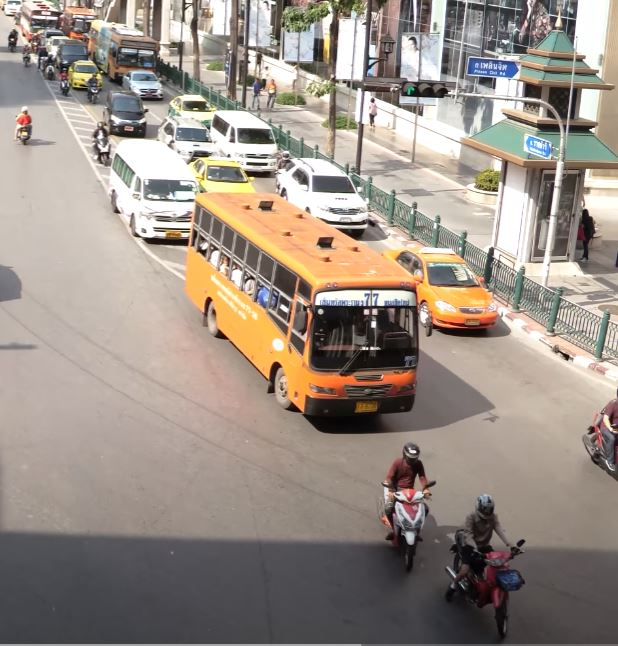Bus: (183, 192, 421, 423), (107, 139, 201, 244), (210, 109, 279, 174), (87, 20, 158, 80), (20, 1, 59, 42), (62, 6, 101, 44)
Car: (379, 244, 503, 338), (275, 157, 369, 235), (190, 156, 257, 204), (157, 118, 219, 162), (103, 89, 148, 139), (168, 93, 218, 130), (121, 68, 166, 101), (68, 59, 102, 91), (57, 44, 88, 69)
Motorcycle: (444, 493, 529, 640), (380, 442, 439, 573), (91, 121, 115, 166), (13, 104, 34, 147), (42, 52, 58, 80), (85, 72, 99, 103), (59, 66, 71, 94), (21, 44, 32, 69)
